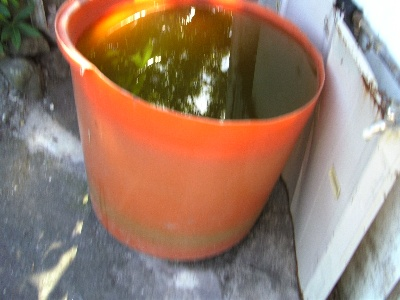bucket: (55, 1, 326, 262)
